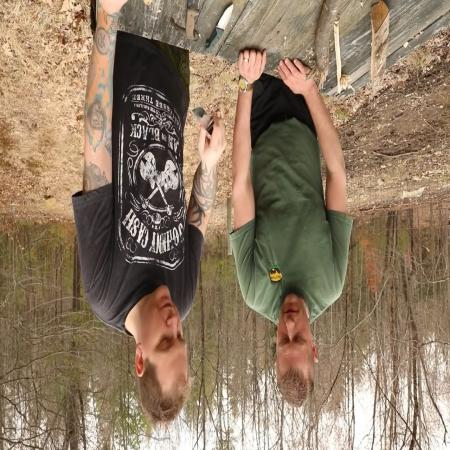long weapon: (186, 100, 230, 160)
